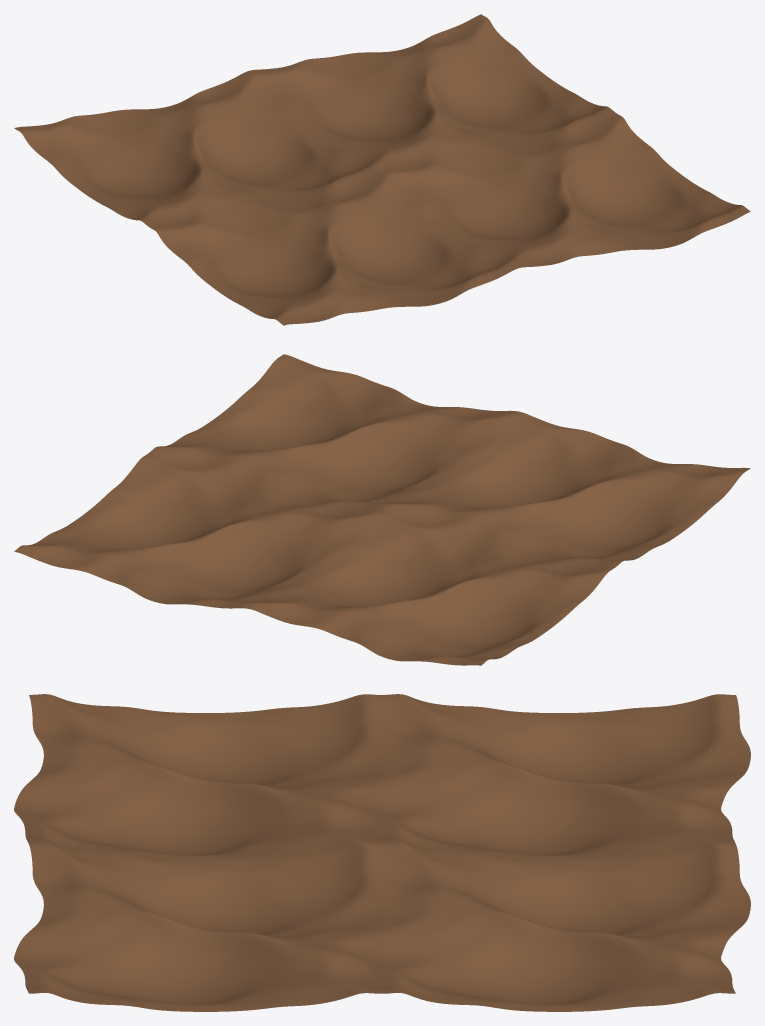
File: desertsmall.glb
The picture shows the model from 3 angles, top to bottom: view 1: azimuth 30°, elevation 25°; view 2: azimuth 150°, elevation 25°; view 3: azimuth 270°, elevation 25°; orthographic projection. The views are drawn at different scales.
Parts seen in each view (by area): view 1: Plane.001; view 2: Plane.001; view 3: Plane.001.
Boxes of the visible parts, <box> form: Plane.001: <box>14,14,750,325</box>; Plane.001: <box>14,354,750,665</box>; Plane.001: <box>14,694,750,1011</box>.
Bounding box in the file's own units: 27.29 × 1.61 × 28.35.
